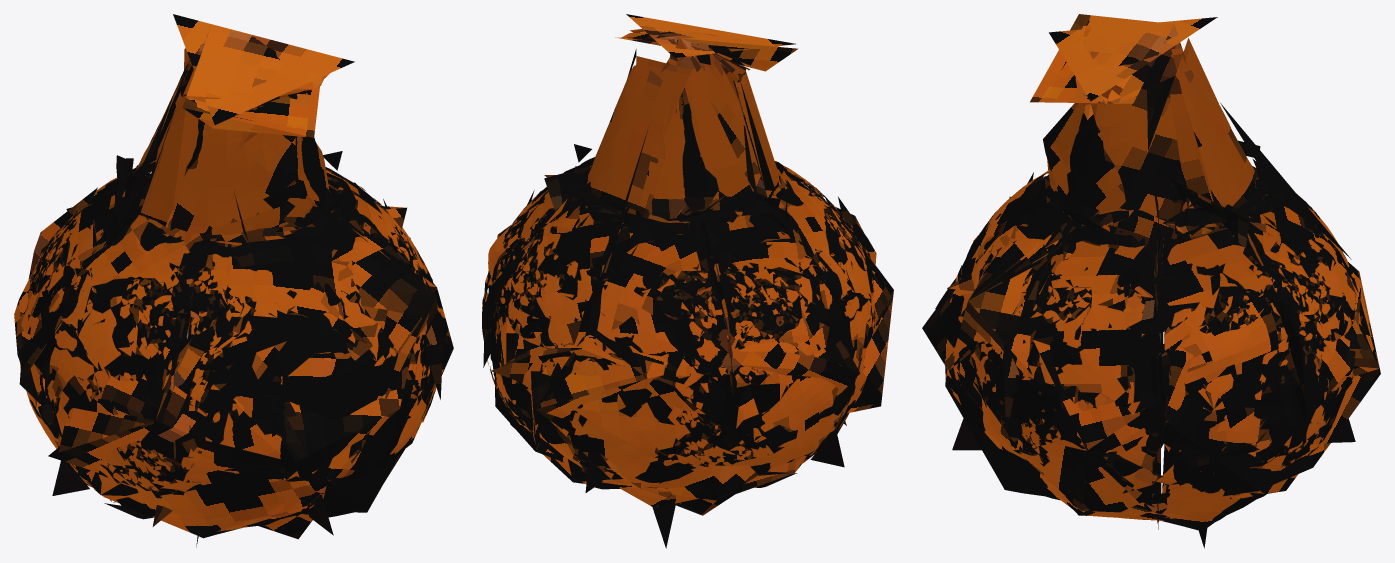
The model's file is SM_LootBag_Yellow_QuadRetro.glb.
3 views of the same model, side by side, from view 1: azimuth 30°, elevation 25°; view 2: azimuth 150°, elevation 25°; view 3: azimuth 270°, elevation 25° (orthographic). The views are drawn at different scales.
Parts seen in each view (by area): view 1: LootBag_Yellow_QuadRemesh; view 2: LootBag_Yellow_QuadRemesh; view 3: LootBag_Yellow_QuadRemesh.
Boxes of the visible parts, x1=… form: LootBag_Yellow_QuadRemesh: x1=14, y1=14, x2=453, y2=547; LootBag_Yellow_QuadRemesh: x1=482, y1=14, x2=893, y2=548; LootBag_Yellow_QuadRemesh: x1=922, y1=14, x2=1380, y2=548.
Size of the model in its own units: 1.66 by 2.14 by 1.7.
Materials: 1 (1 with a texture image).
